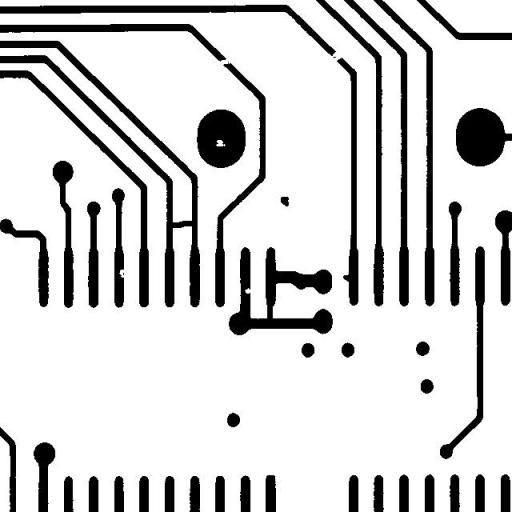copper: (273, 188, 296, 214)
mousebite: (111, 262, 133, 284), (236, 280, 258, 301)
open: (322, 42, 350, 70), (210, 50, 240, 72)
pin-hole: (208, 132, 233, 154)
short: (161, 213, 201, 235), (259, 294, 280, 328)
spur: (336, 266, 358, 289)
